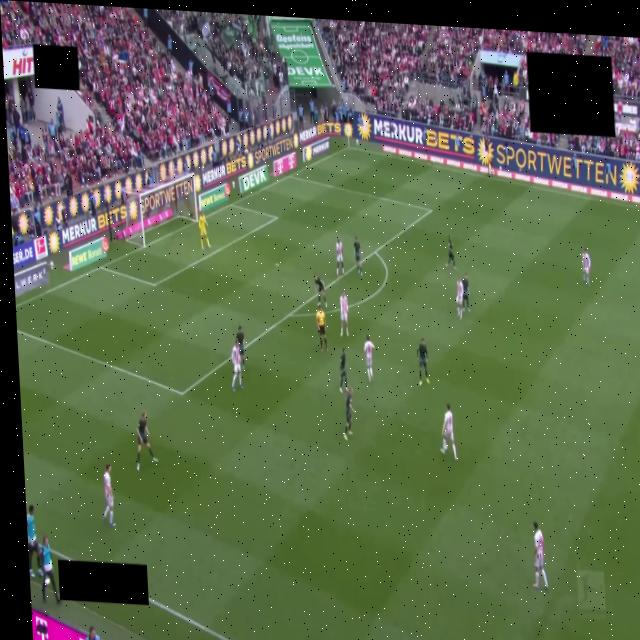ball: (443, 444, 447, 450)
player: (137, 412, 158, 470), (534, 522, 548, 589), (441, 404, 456, 460), (103, 464, 115, 526), (344, 387, 354, 440), (232, 339, 242, 392), (418, 339, 429, 386), (364, 335, 374, 382), (198, 212, 210, 248), (315, 276, 327, 306), (340, 291, 348, 336), (236, 326, 244, 370), (446, 235, 456, 269), (582, 249, 591, 285), (354, 236, 362, 276), (340, 347, 347, 392), (462, 274, 470, 311), (336, 238, 344, 275), (456, 279, 463, 319)
referee: (316, 304, 327, 351)
